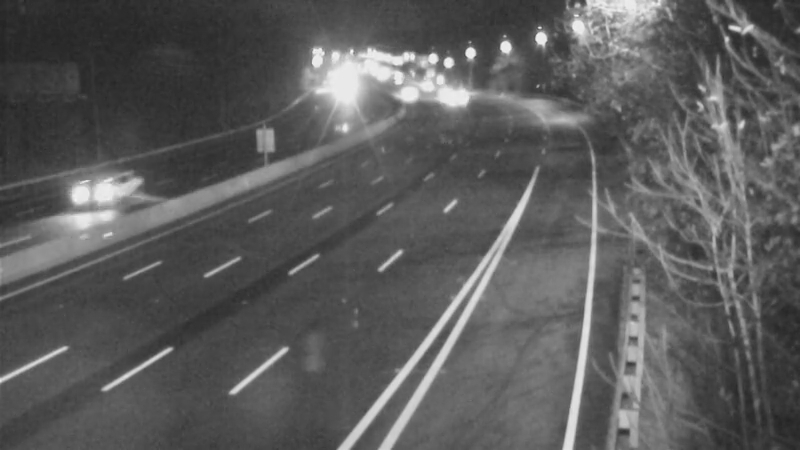vehicle: (55, 149, 135, 229), (398, 59, 448, 109), (383, 66, 433, 116), (427, 71, 477, 121), (315, 68, 365, 118)
